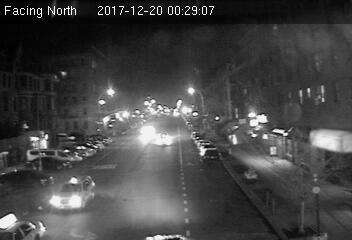car: (50, 175, 96, 209), (198, 147, 223, 163), (154, 133, 176, 147)
